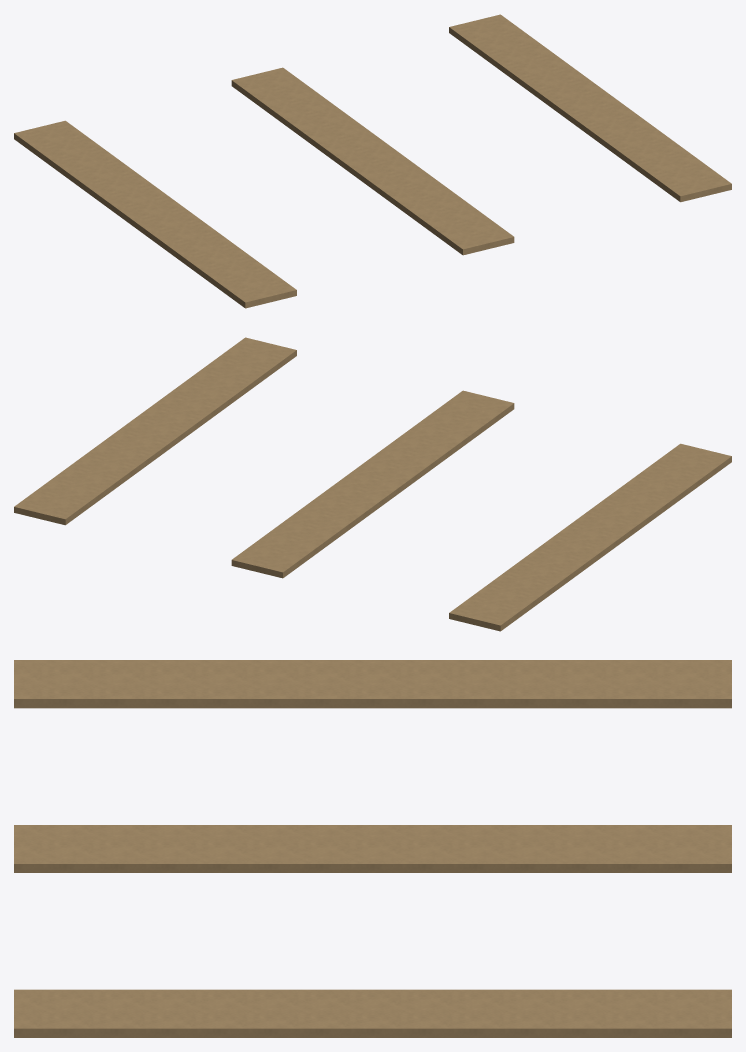
File: kaiyang-ground-LOD0.glb
3 renders of one model, top to bottom at view 1: azimuth 30°, elevation 25°; view 2: azimuth 150°, elevation 25°; view 3: azimuth 270°, elevation 25°, orthographic. The views are drawn at different scales.
Parts seen in each view (by area): view 1: kaiyang_ground_C; view 2: kaiyang_ground_C; view 3: kaiyang_ground_C.
Part boxes in pixels (box(x1,y1,x2,y2)): kaiyang_ground_C: box(14, 14, 731, 308); kaiyang_ground_C: box(14, 337, 731, 631); kaiyang_ground_C: box(14, 660, 731, 1037).
Size of the model in its own units: 17 by 0.202 by 14.
Materials: 1 (1 with a texture image).
